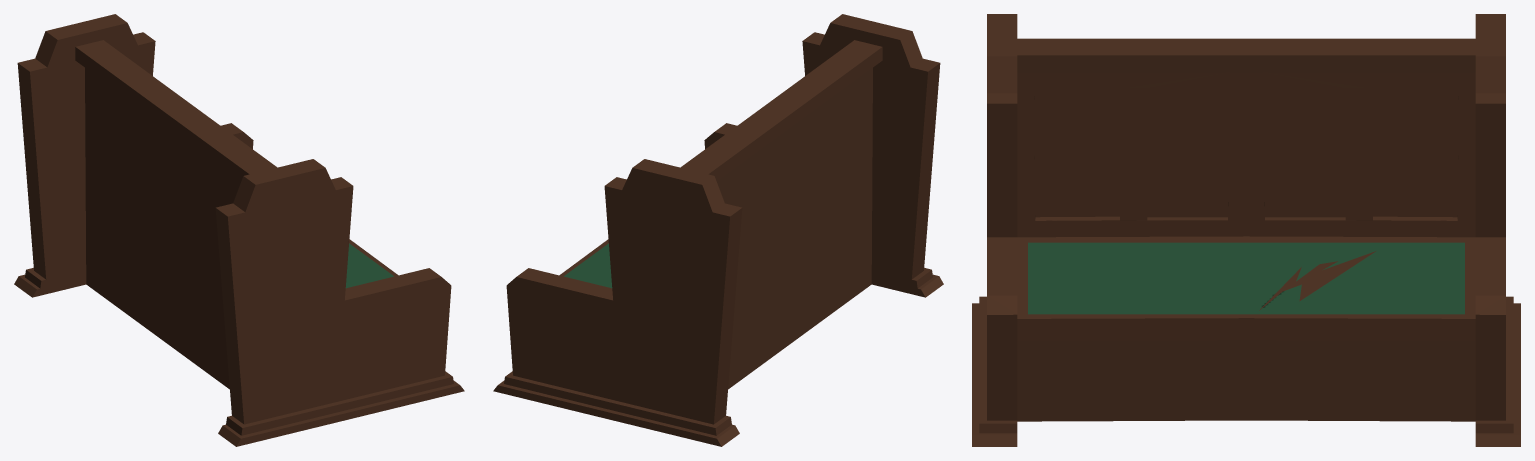
The model's file is chair.obj.
3 renders of one model, left to right at view 1: azimuth 30°, elevation 25°; view 2: azimuth 150°, elevation 25°; view 3: azimuth 270°, elevation 25°, orthographic. The views are drawn at different scales.
Parts seen in each view (by area): view 1: 椅子; view 2: 椅子; view 3: 椅子.
Boxes of the visible parts, x1,y1,x2,y2 form: 椅子: [14, 14, 464, 446]; 椅子: [493, 14, 943, 446]; 椅子: [972, 14, 1520, 446].
Size of the model in its own units: 3.9 by 4.05 by 6.49.
Materials: 1 (1 with a texture image).
